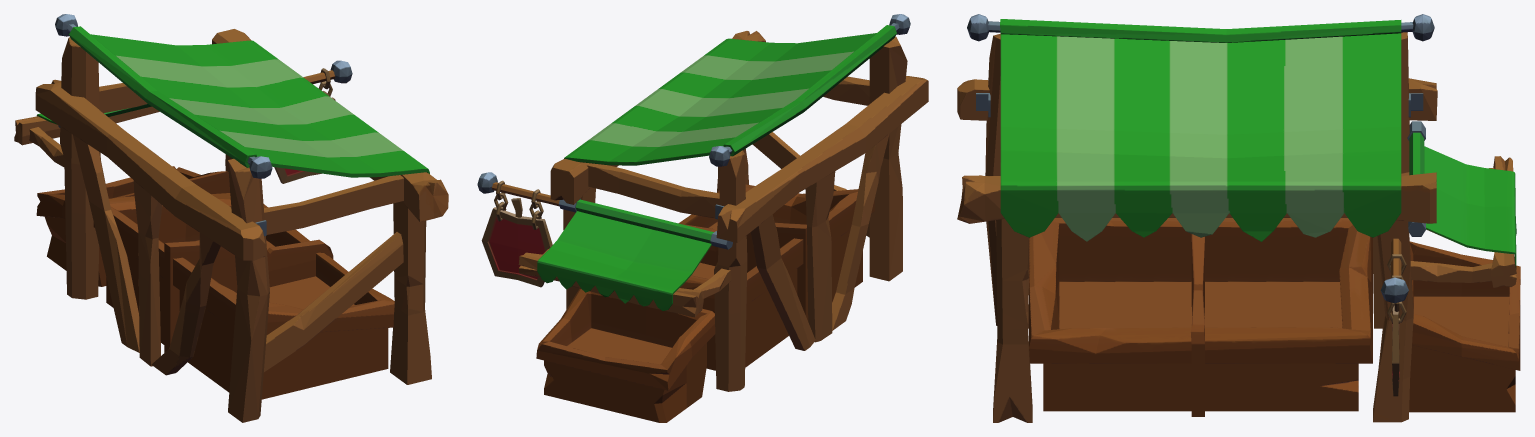
Rendered from Caseta02.fbx.
3 views of the same model, side by side, from view 1: azimuth 30°, elevation 25°; view 2: azimuth 150°, elevation 25°; view 3: azimuth 270°, elevation 25° (orthographic). The views are drawn at different scales.
Visible parts, largest first — view 1: tent03; view 2: tent03; view 3: tent03.
Part boxes in pixels (box(x1,y1,x2,y2)): tent03: box(14, 14, 448, 422); tent03: box(477, 14, 928, 422); tent03: box(957, 14, 1520, 422).
Size of the model in its own units: 4.8 by 4.25 by 6.91.
1 material, 1 textured.
